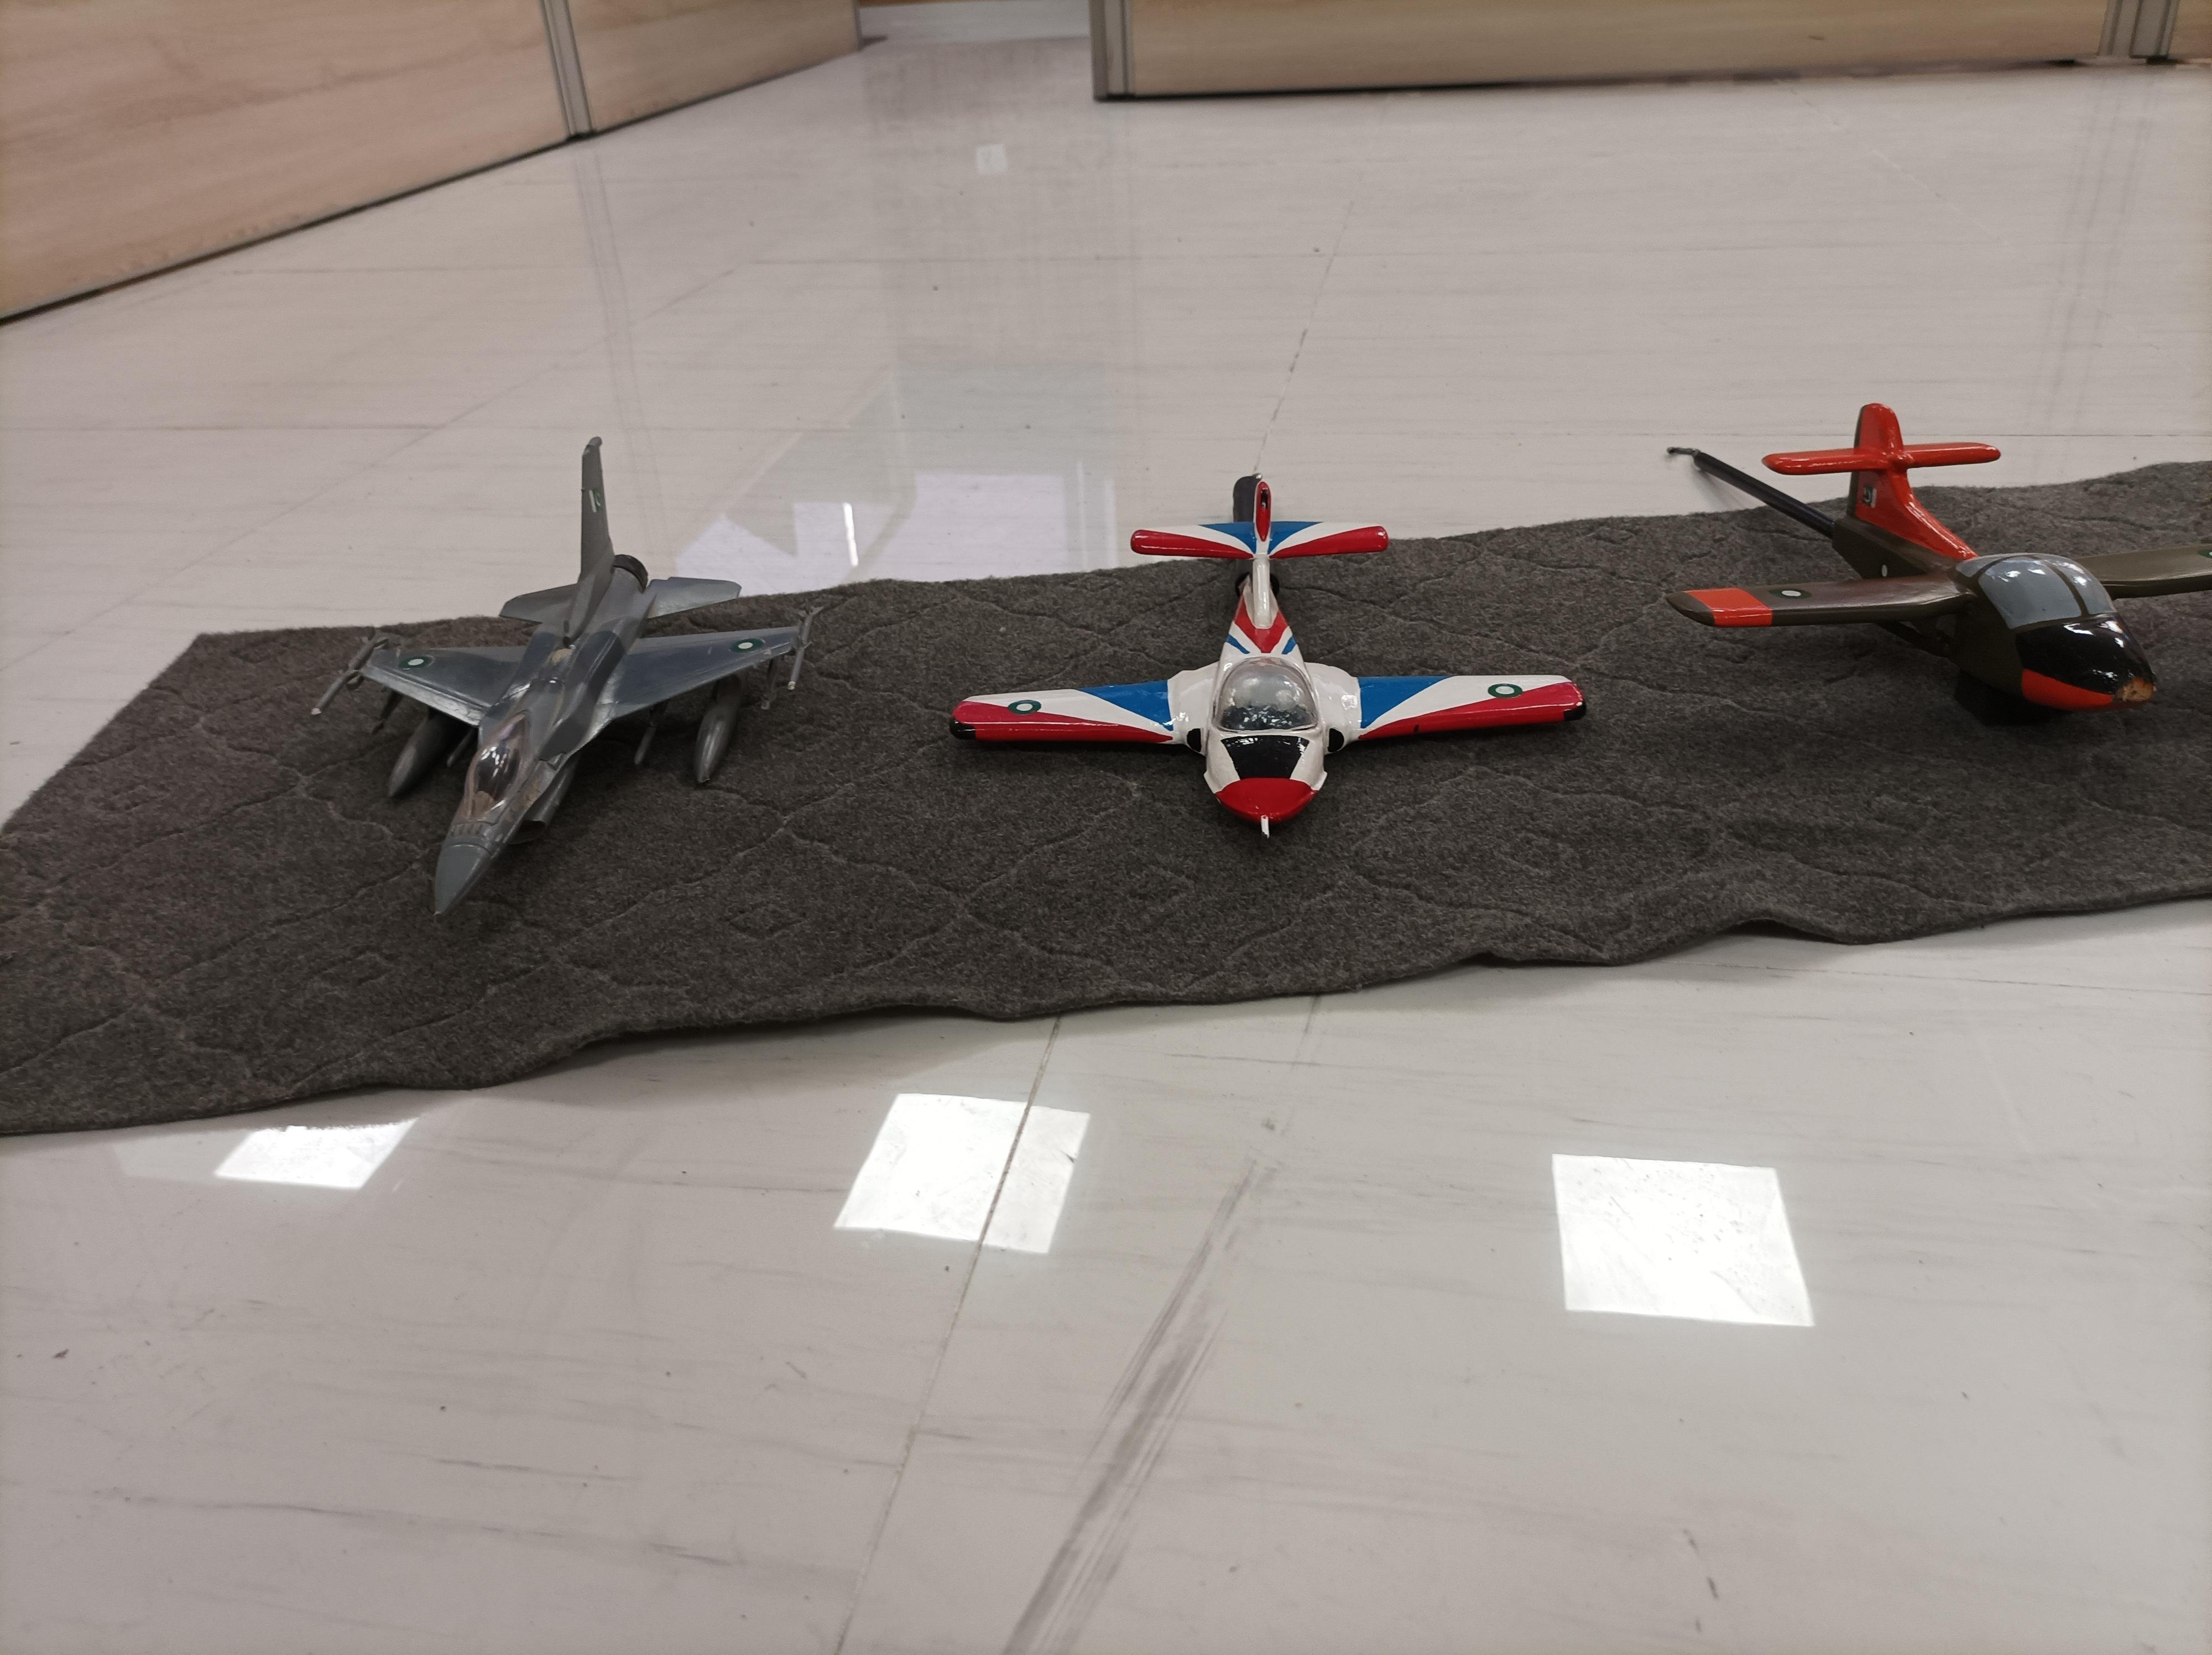Airplane: (921, 440, 1604, 885), (327, 417, 841, 935), (1694, 388, 2212, 821)
